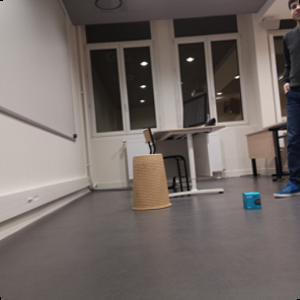medium: (132, 154, 171, 211)
small: (243, 191, 263, 210)
